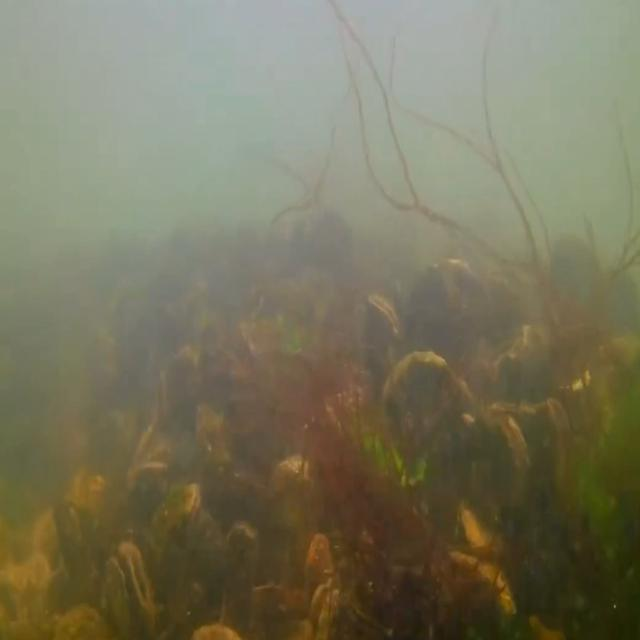Oyster-Closed: (364, 294, 402, 396), (150, 480, 203, 552)
Oyster-Indeterminate: (379, 350, 474, 440), (490, 398, 572, 481), (460, 411, 531, 491), (449, 547, 518, 619), (219, 517, 263, 619), (134, 365, 168, 476), (193, 404, 236, 476), (271, 453, 314, 521), (125, 434, 177, 486), (460, 505, 514, 554)
Oyster-Open: (99, 541, 154, 640), (309, 582, 342, 640)
